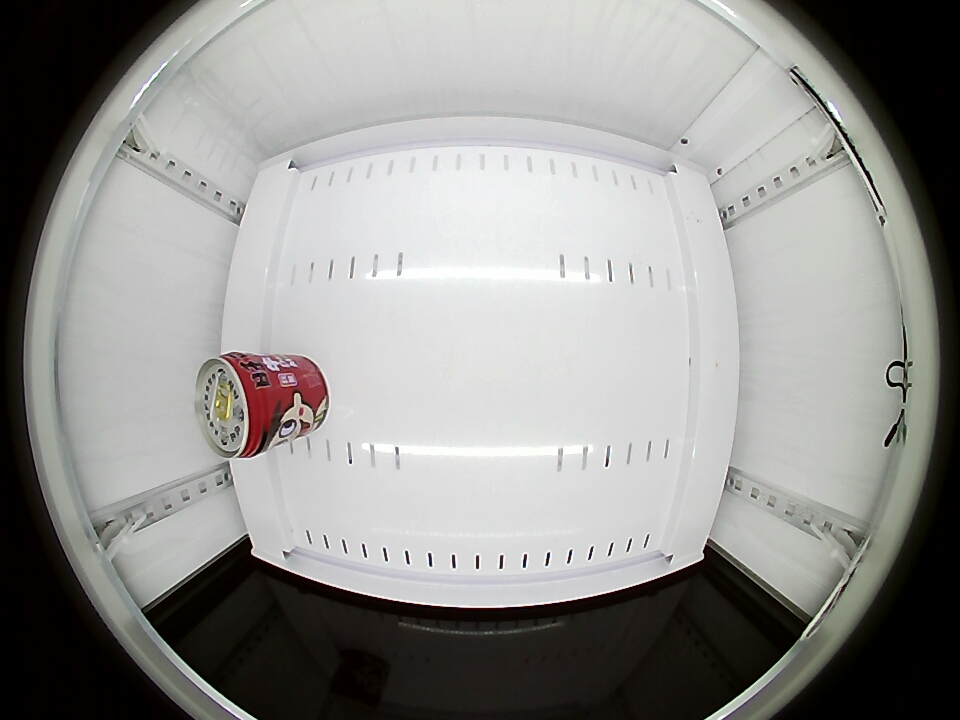wangzainiunai: (196, 352, 283, 460)
